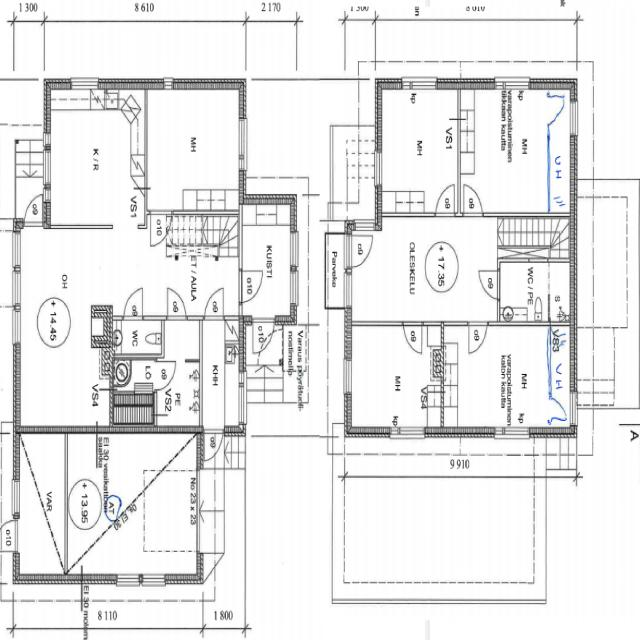door: (345, 235, 373, 267), (253, 315, 274, 357), (239, 270, 264, 303), (150, 210, 172, 247), (23, 189, 43, 229), (205, 425, 222, 463), (0, 520, 20, 552), (154, 361, 176, 390), (546, 95, 568, 124), (167, 287, 186, 320), (435, 184, 454, 217), (124, 287, 142, 320), (478, 271, 499, 299), (205, 289, 223, 320), (464, 186, 482, 217), (469, 322, 487, 352), (404, 322, 422, 352), (548, 398, 568, 422)
